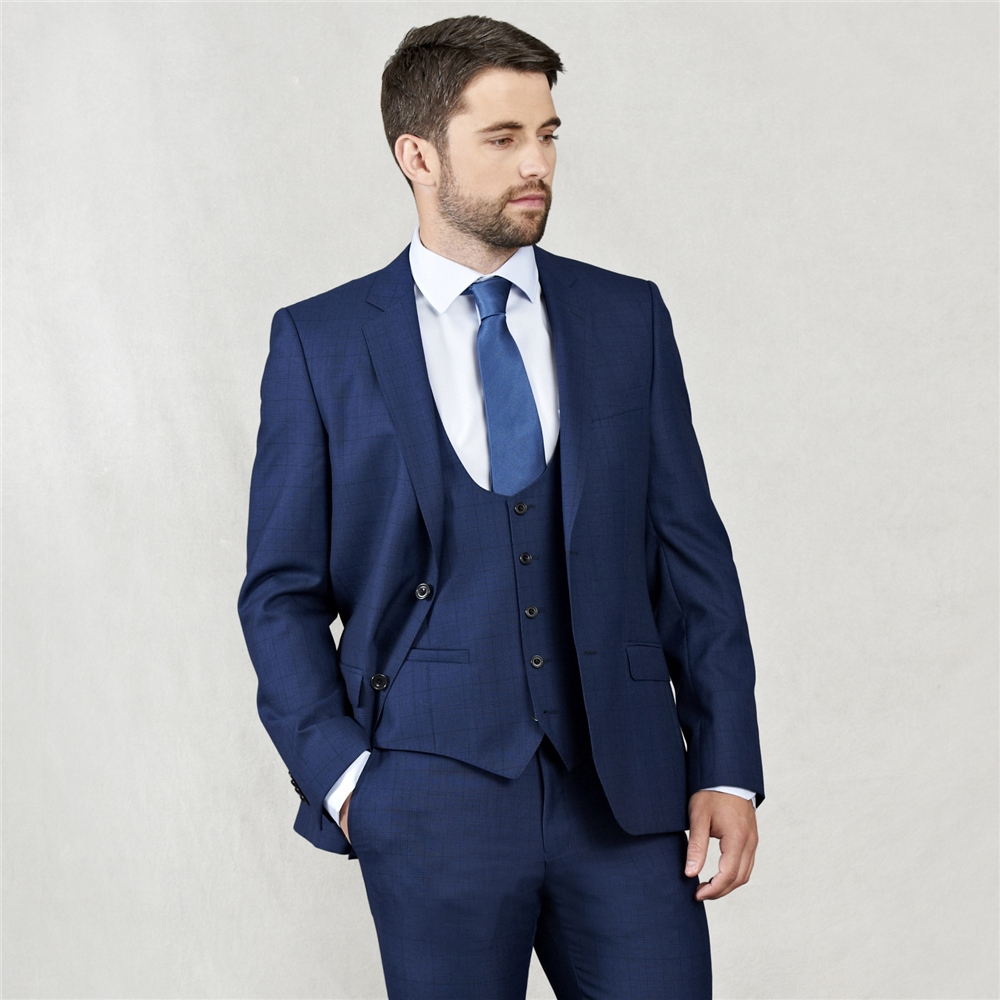F_M_suit jacket: (188, 221, 809, 821)
F_shirt: (402, 236, 577, 499)
F_tie: (458, 274, 560, 500)
